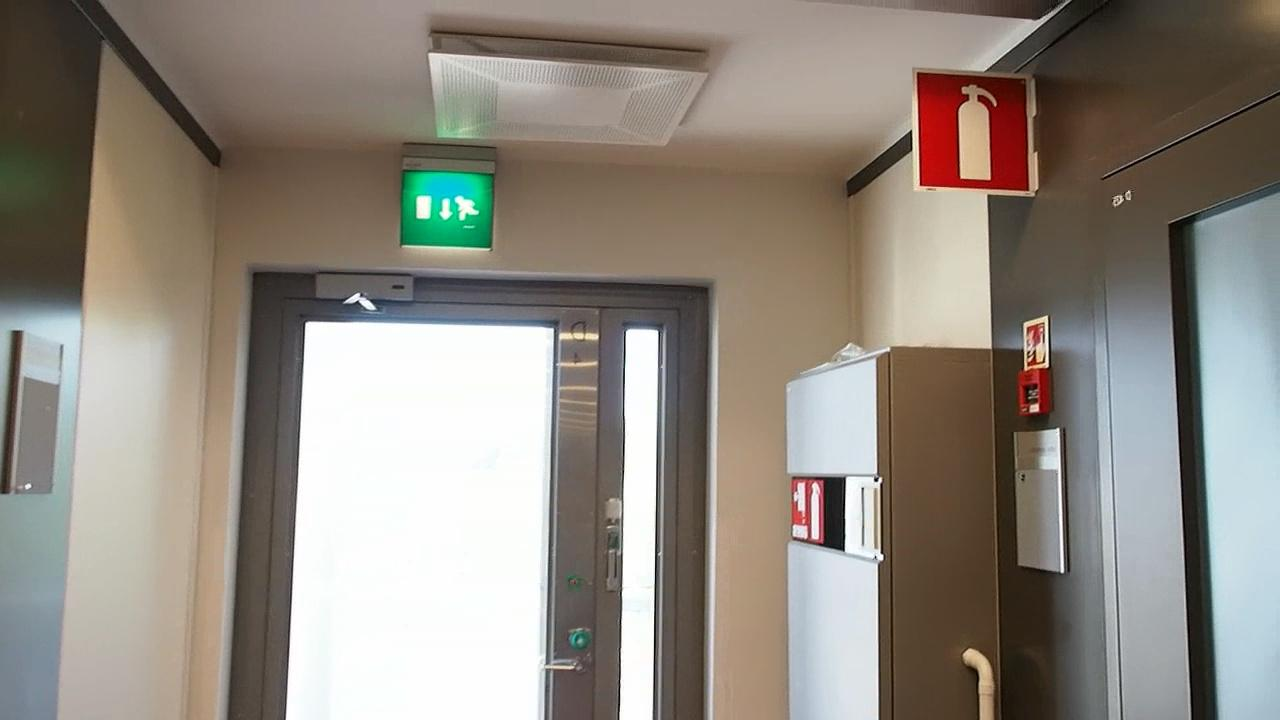exit: (394, 168, 493, 250)
fireextinguisher: (921, 74, 1030, 191)
